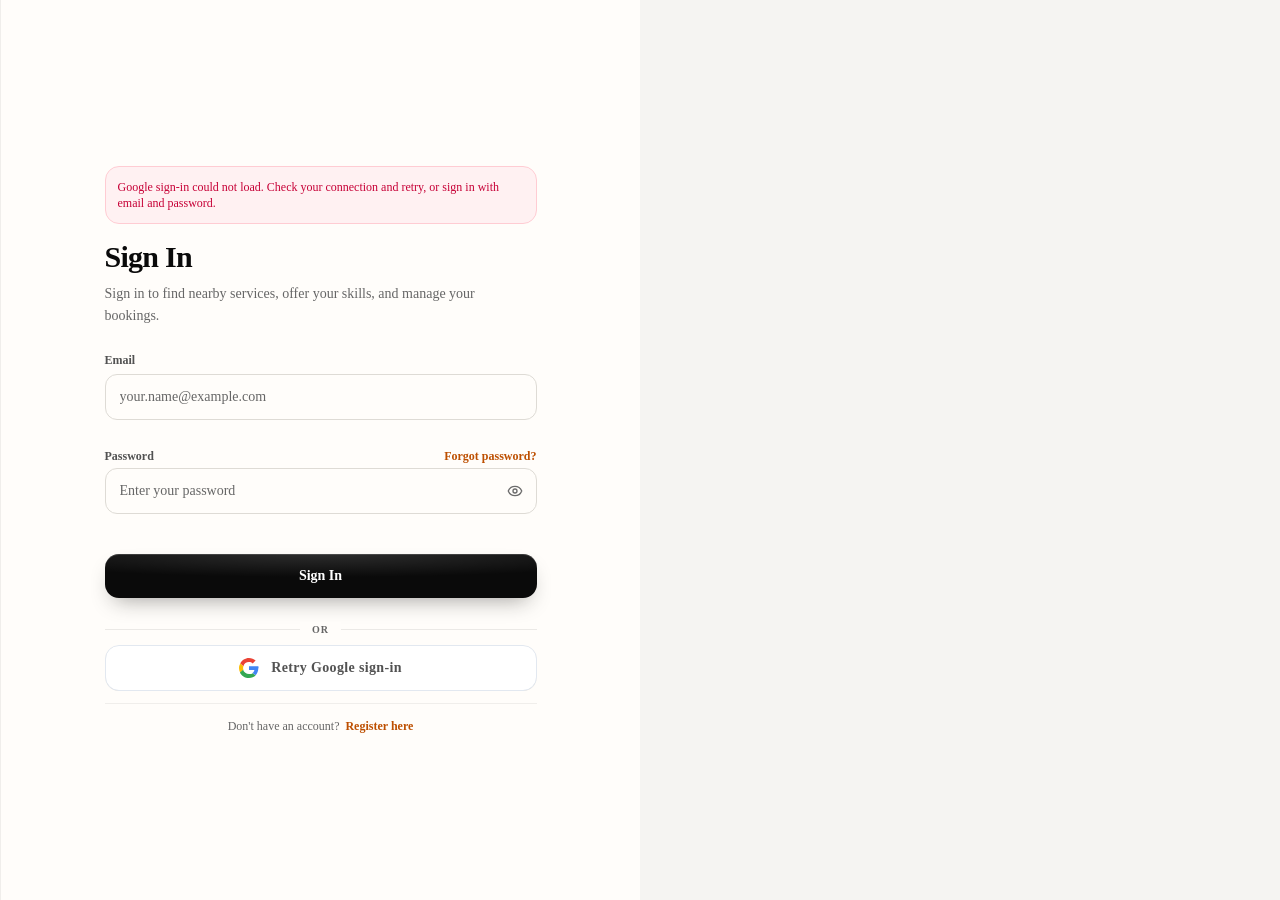
Test: login/session integration through the real auth flow › completes email sign-in on /login while an earlier session check remains pending
Type "account@example.test" into the field labelled "Email".
click(320, 397); type("account@example.test")  # box [104,374,536,420]
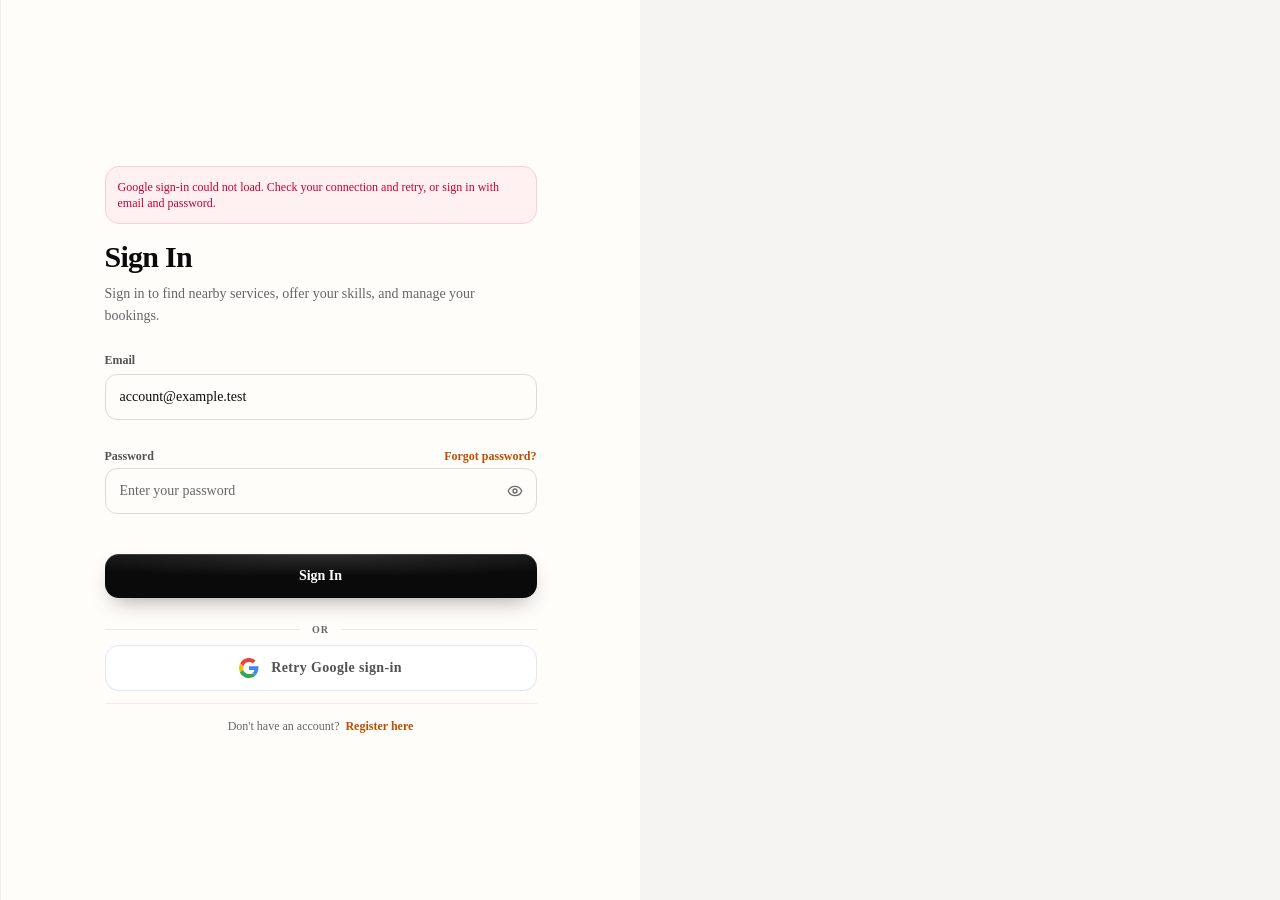
Type "Example-password-1!" into the password field with placeholder "Enter your password".
click(320, 491); type("Example-password-1!")  # box [104,468,536,514]
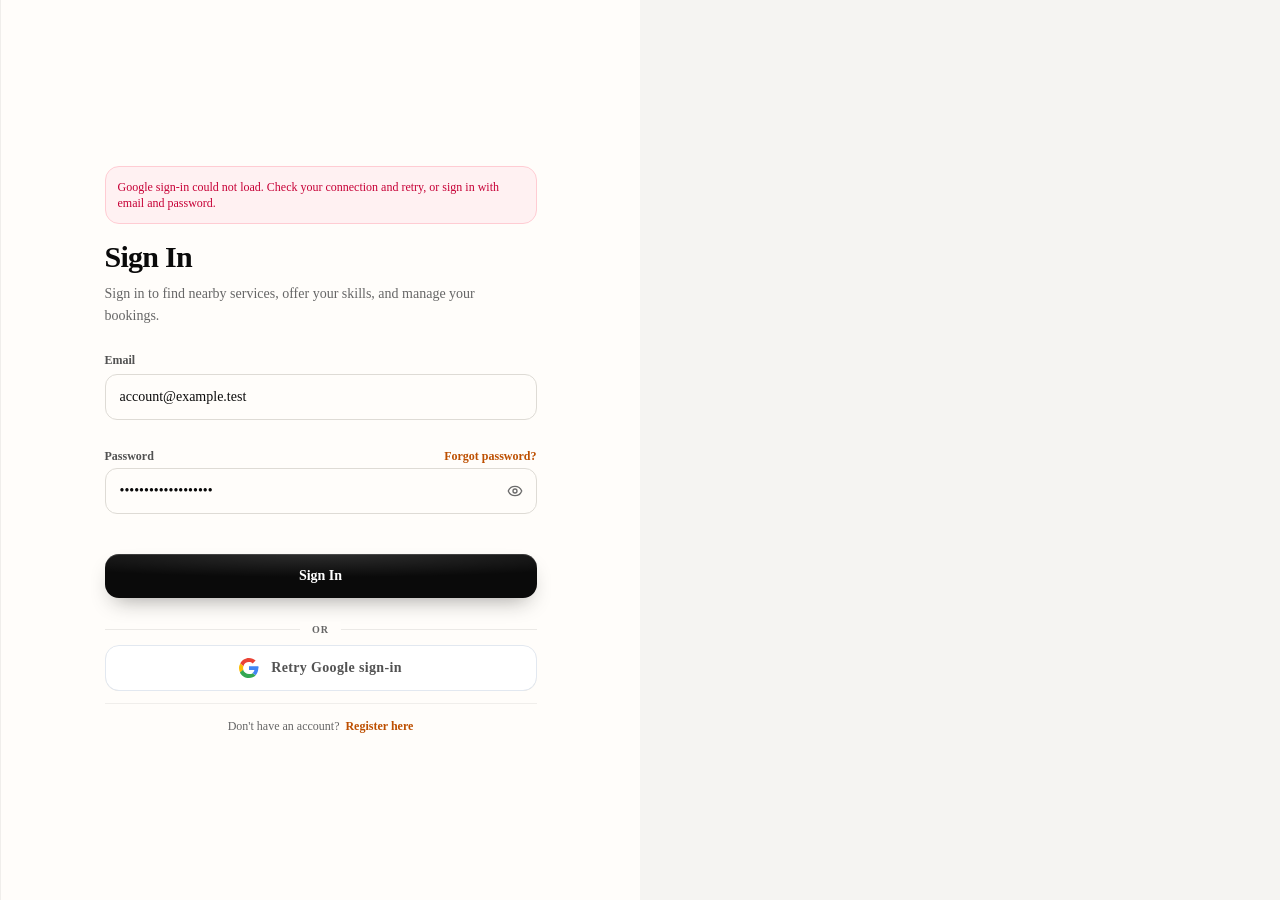
Click the button "Sign In".
click(320, 576)  # box [104,554,536,598]
(page scrolled)
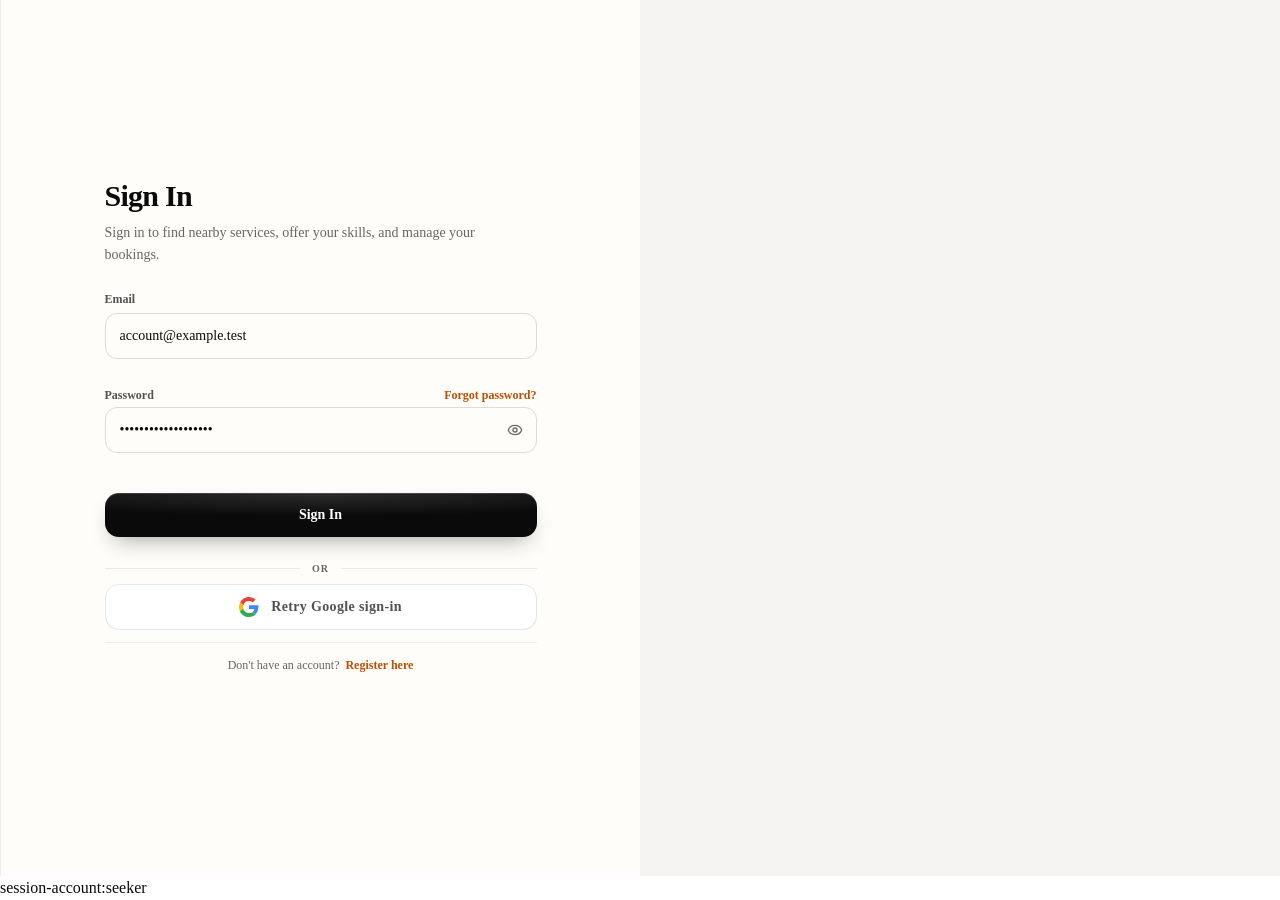
Check: the text named "Session identity" reads "session-account:seeker", box [0,879,147,896]
Check: the message "Google sign-in could not load. Check your connection and retry, or sign in with" is gone
